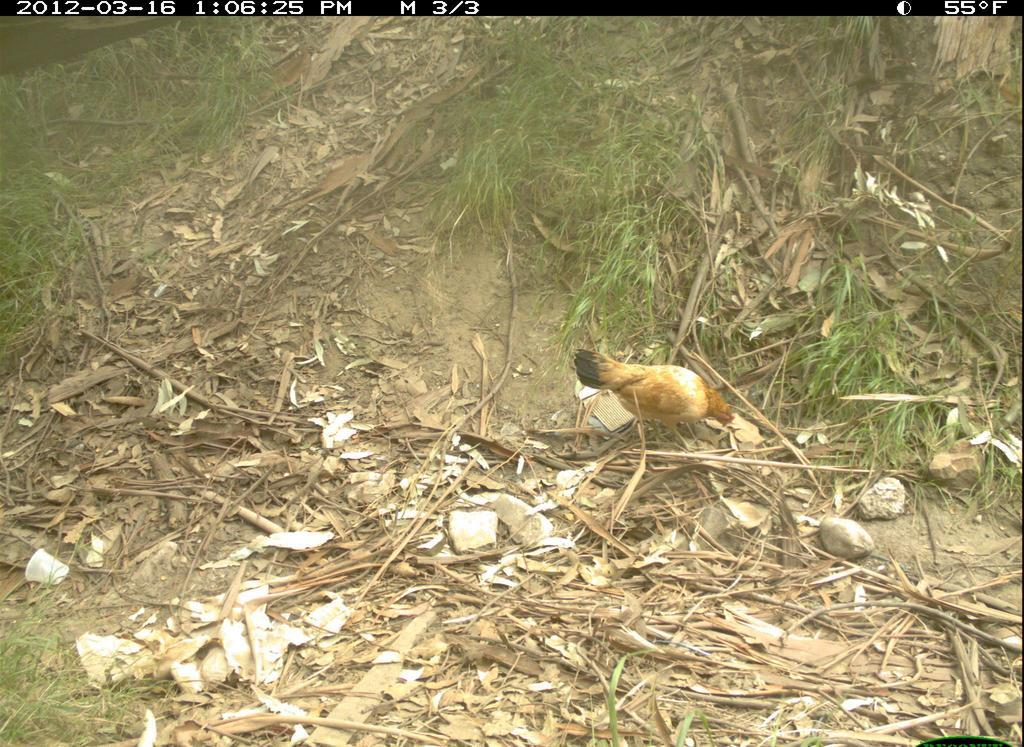bird: (568, 346, 739, 461)
